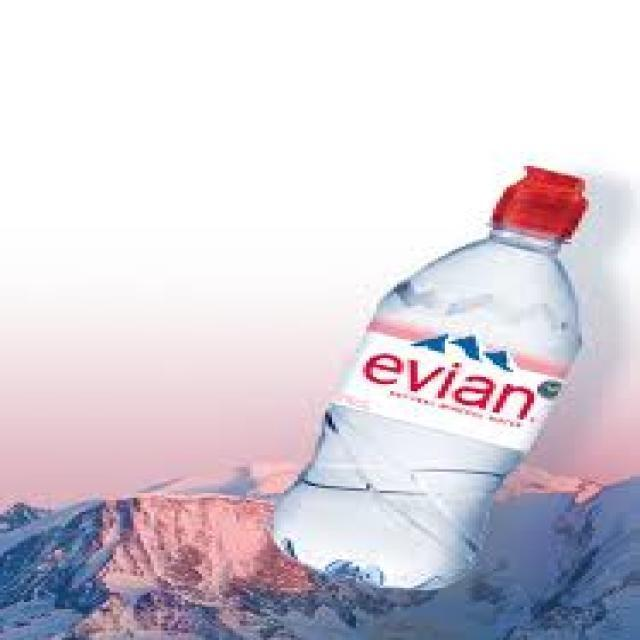bottle: (224, 87, 640, 596)
